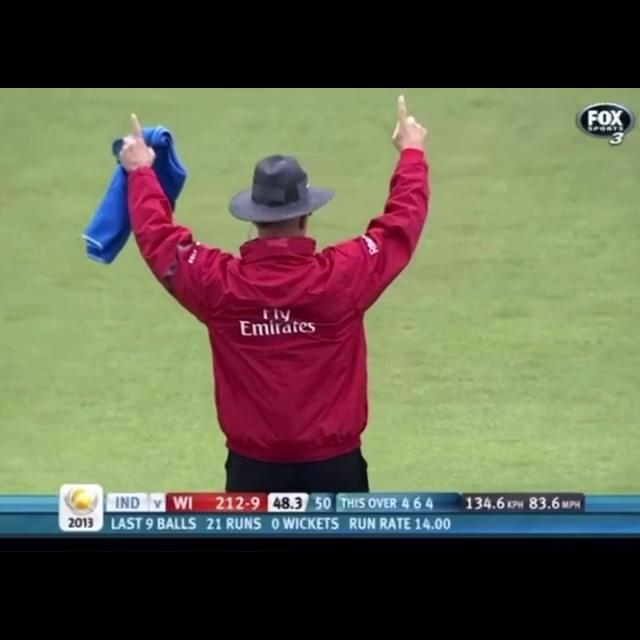umpire: (59, 91, 509, 465)
